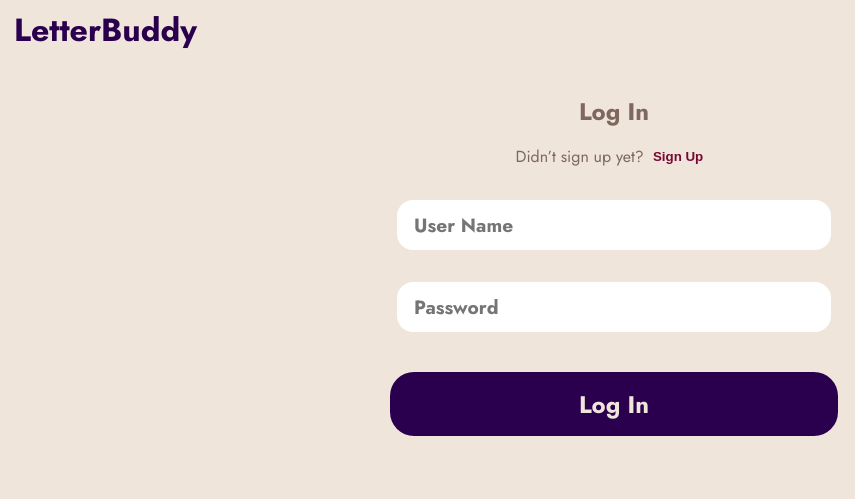
Login Flow › should show validation errors for empty fields
Click the submit button at (614, 404), box left=390, top=372, right=838, bottom=436
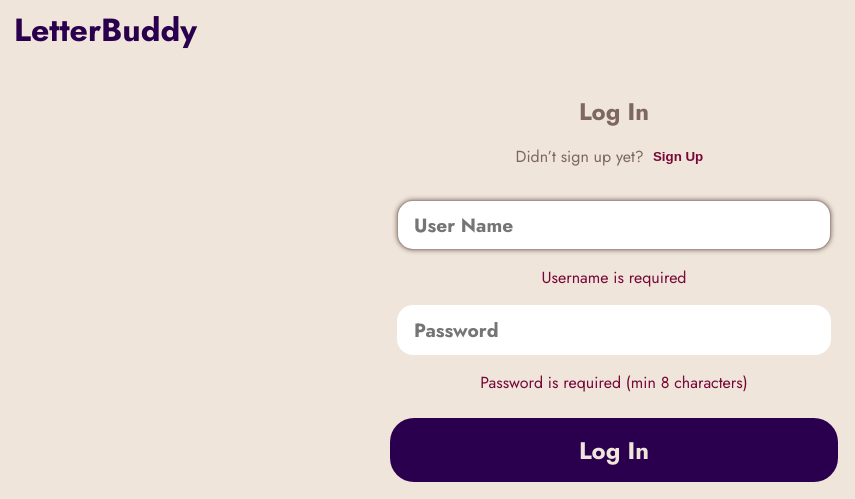
Now the text "Username is required" is shown, box left=542, top=266, right=686, bottom=289
Now the text "Password is required (min 8 characters)" is shown, box left=480, top=371, right=748, bottom=394
